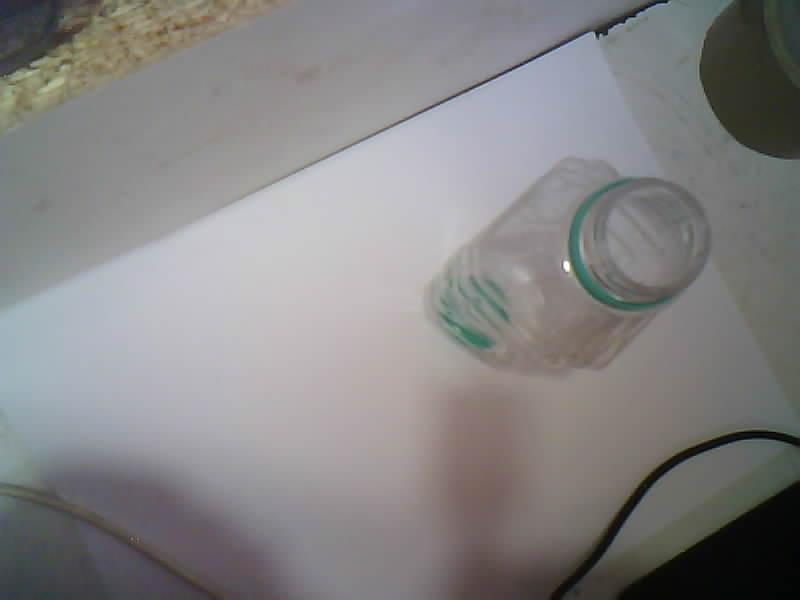non-biodegradable: (427, 158, 709, 372)
